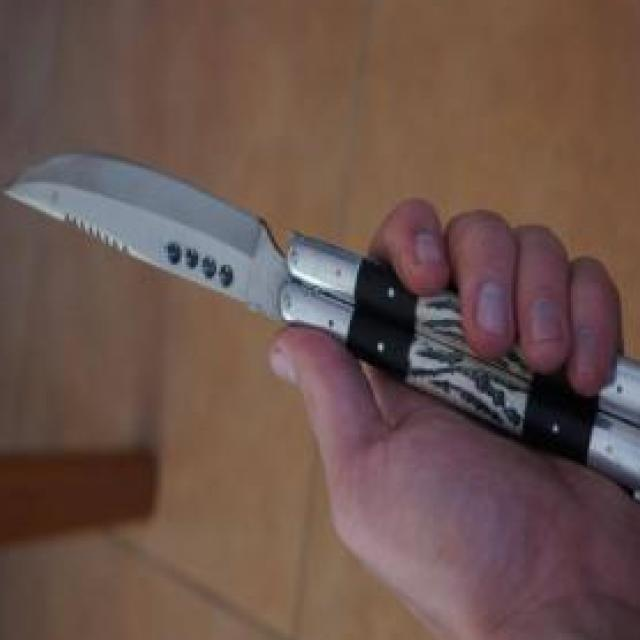knife: (0, 148, 520, 493)
